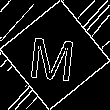M_N: (30, 28, 80, 82)
